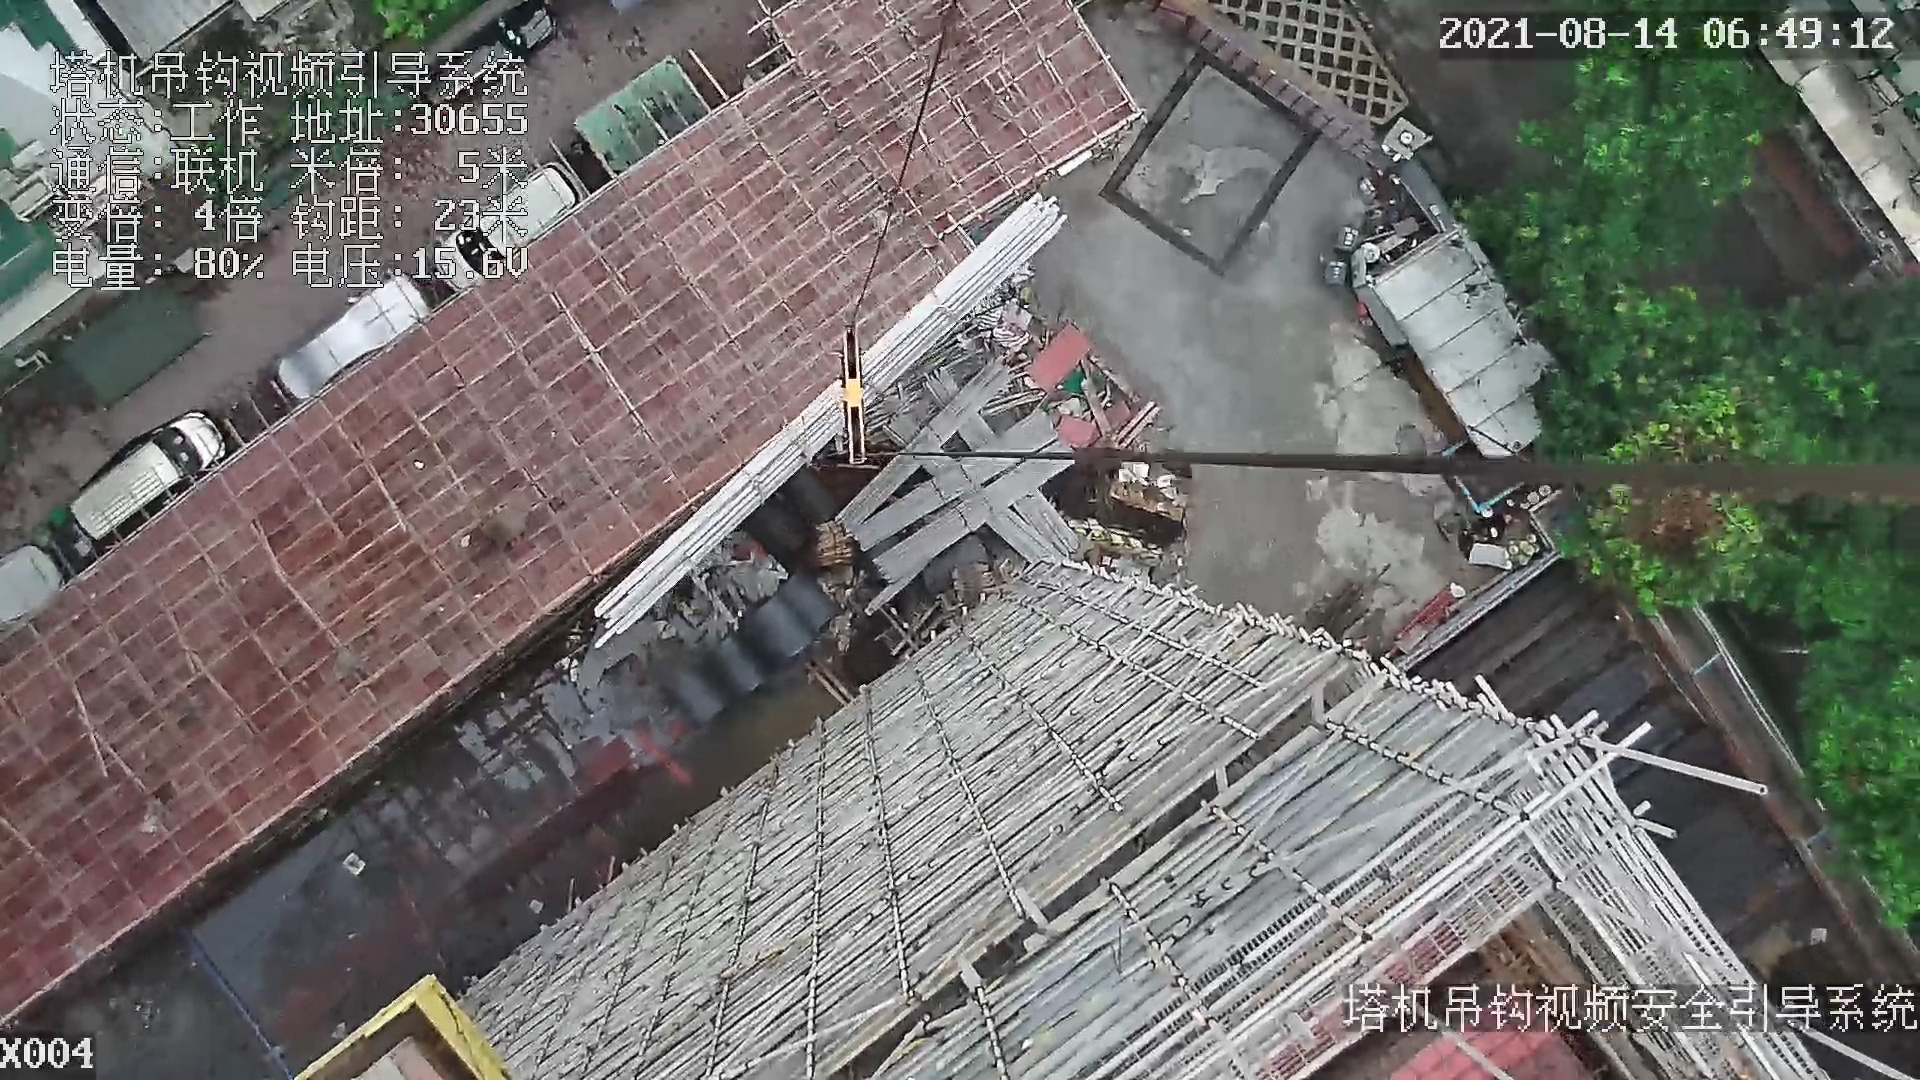hook: (835, 326, 877, 467)
